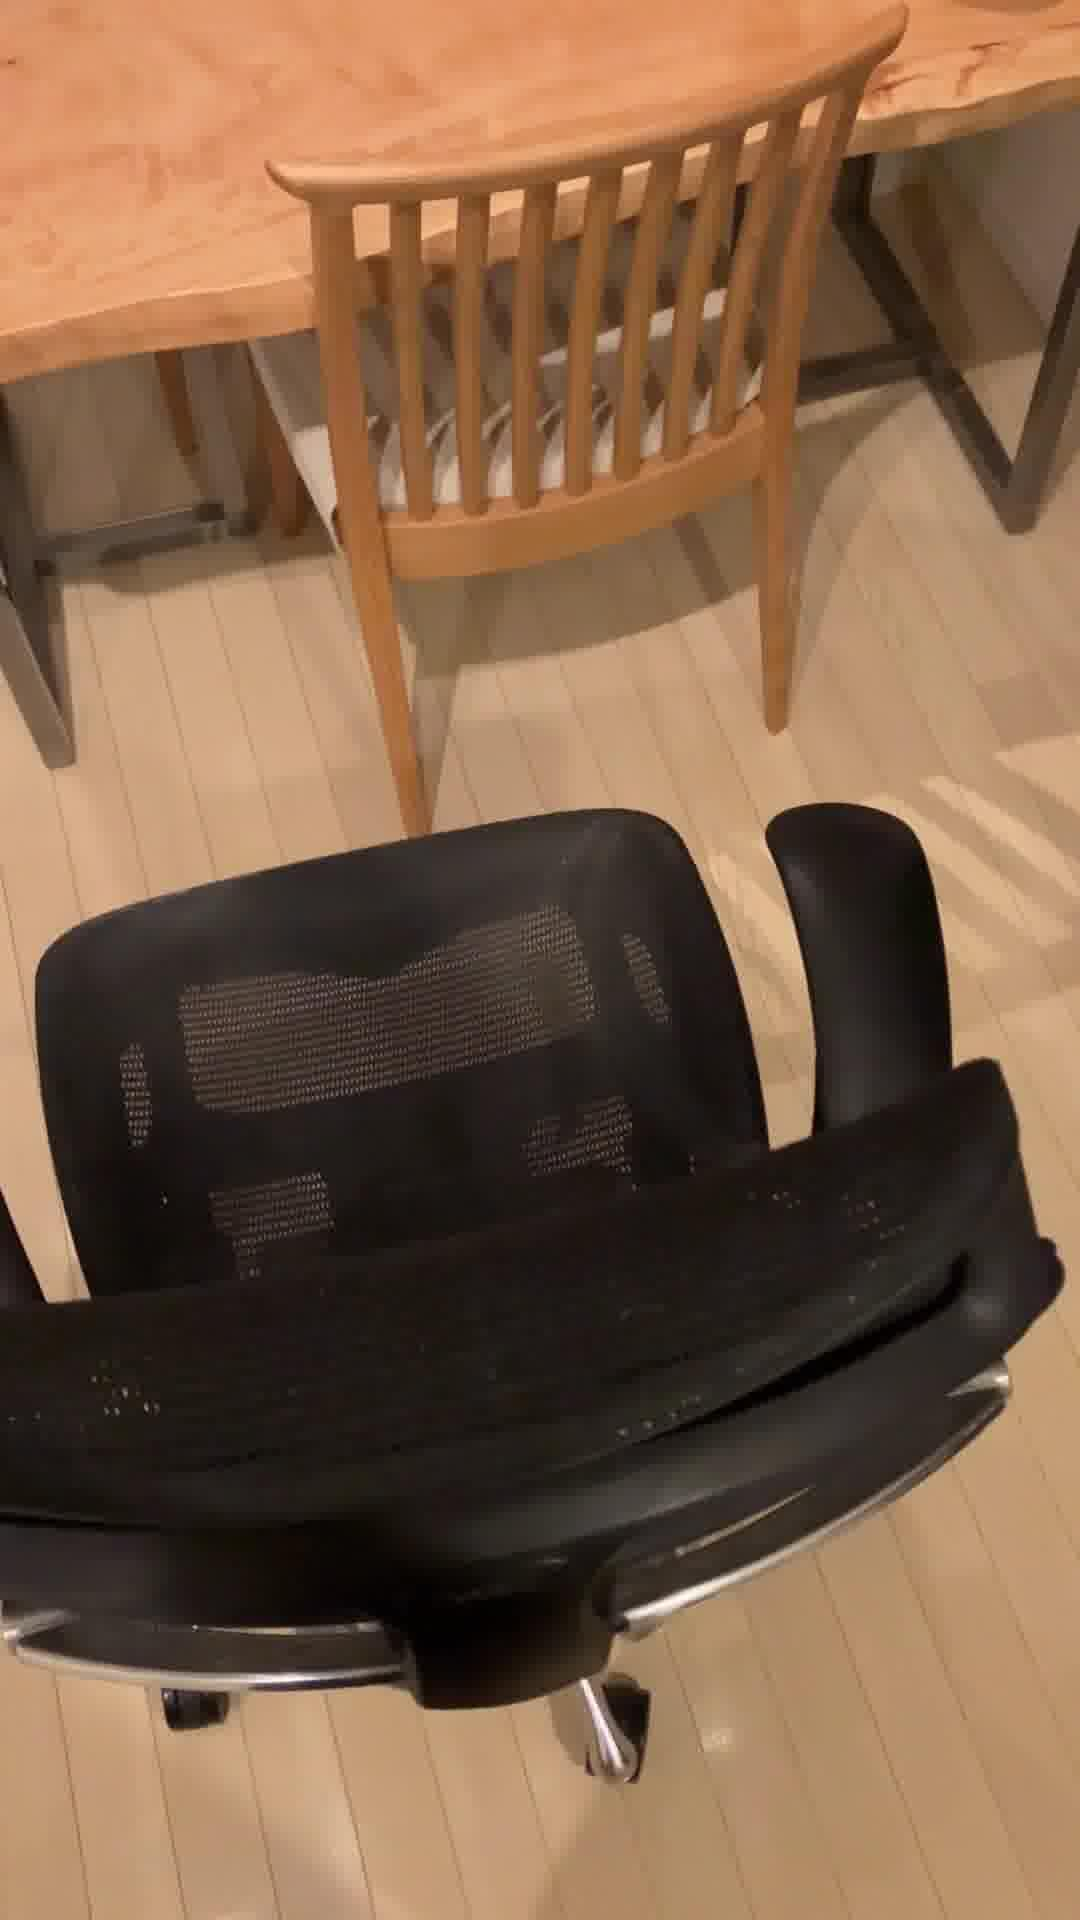okamura-contessa: (0, 798, 1080, 1799)
